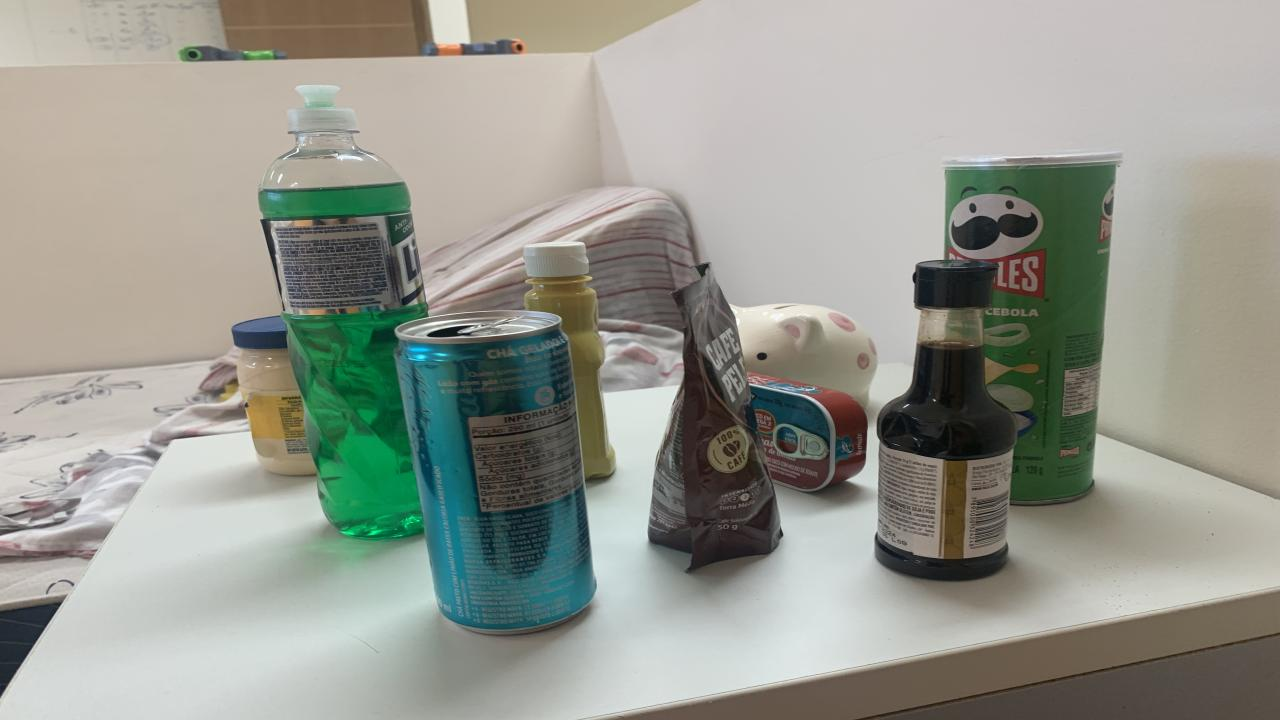Coffee-Pantry_Items: (648, 264, 782, 570)
Detergent-Cleanup_Items: (258, 86, 428, 538)
English_Sauce-Pantry_Items: (875, 261, 1018, 579)
Mayonnaise-Pantry_Items: (232, 315, 315, 474)
Mustard-Pantry_Items: (522, 242, 615, 478)
Pig_Safe-Miscellaneous: (730, 304, 878, 407)
Pringles-Snacks: (942, 152, 1122, 504)
Tea-Drinks: (395, 311, 595, 634)
Tuna_Can-Pantry_Items: (748, 373, 868, 491)
